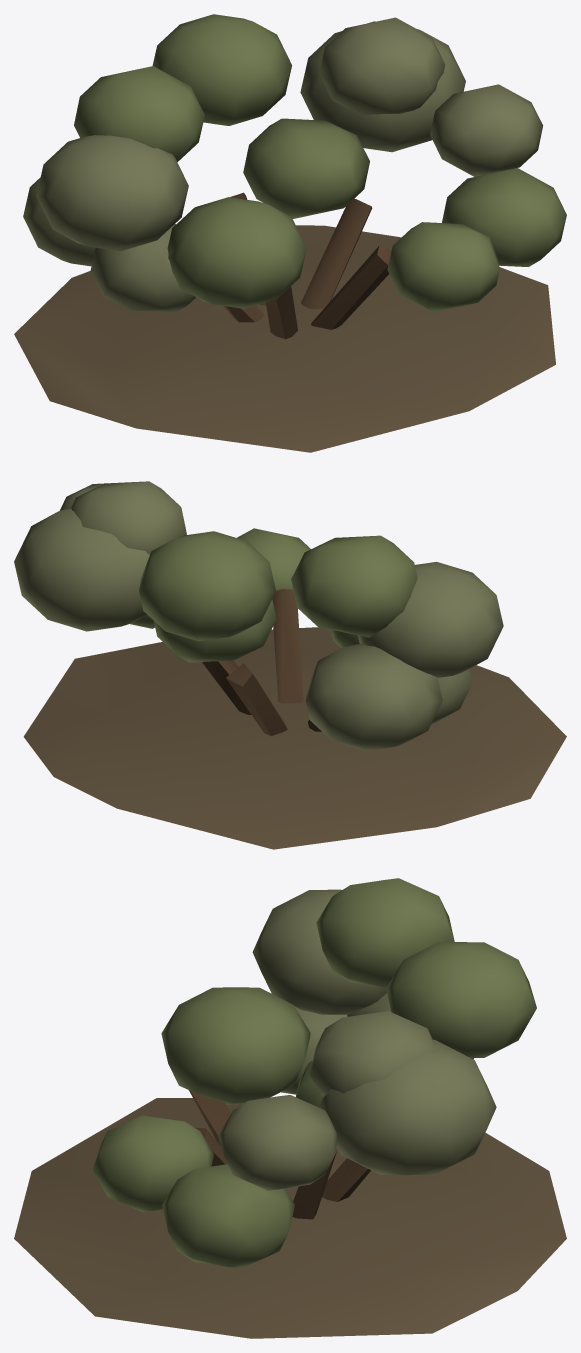
File: saltbush_a_lod1.glb
3 views of the same model, one above another, from view 1: azimuth 30°, elevation 25°; view 2: azimuth 150°, elevation 25°; view 3: azimuth 270°, elevation 25° (orthographic). The views are drawn at different scales.
Parts seen in each view (by area): view 1: Surface.001; view 2: Surface.001; view 3: Surface.001.
Boxes of the visible parts, x1,y1,x2,y2 form: Surface.001: (14, 14, 566, 452); Surface.001: (14, 481, 566, 849); Surface.001: (14, 878, 566, 1338).
Bounding box in the file's own units: 1.79 × 1.03 × 1.65.
